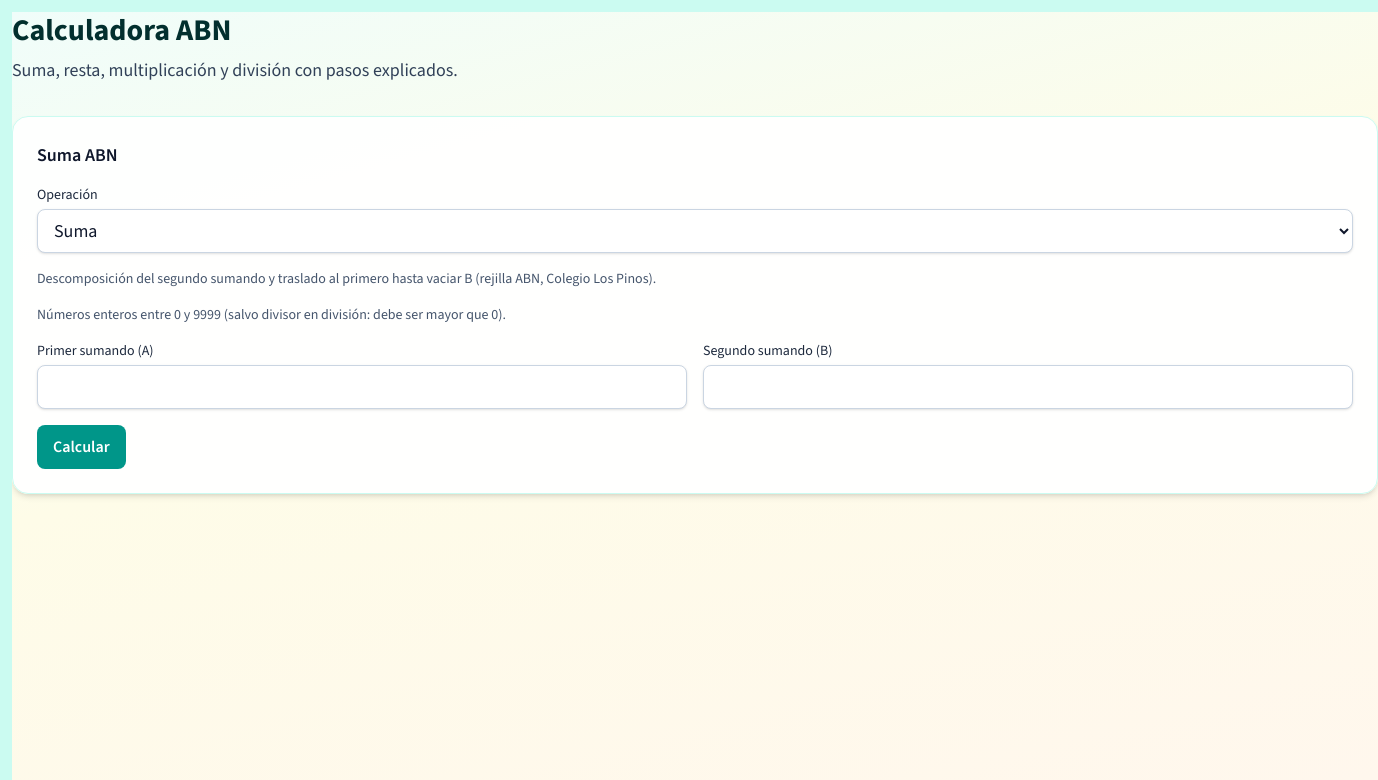
Test case: CalculatorPage › shows validation error when operands are empty
The image size is (1378, 780).
Click the button "Calcular" at (81, 447), box [37,425,126,469]
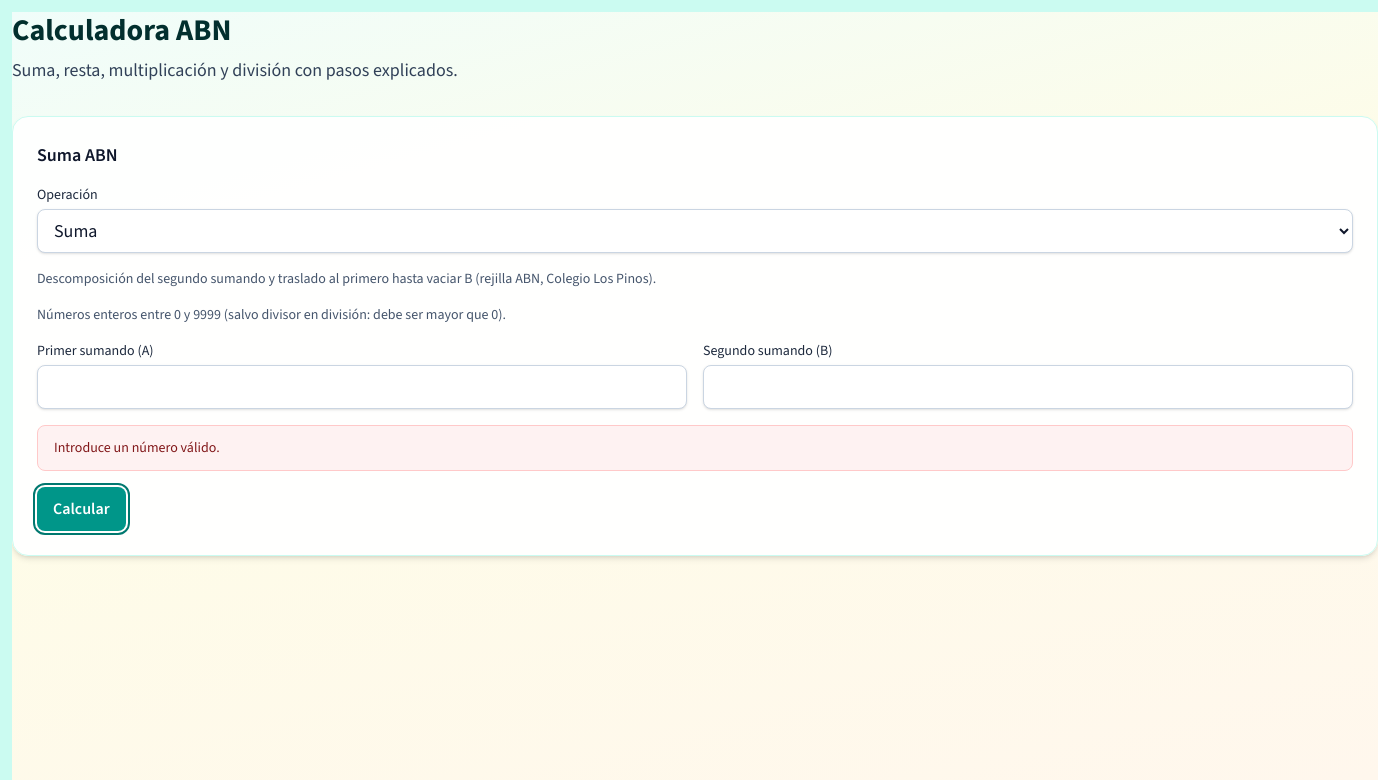
Expected: the message "Introduce un número válido." is shown, [37,425,1353,471]
